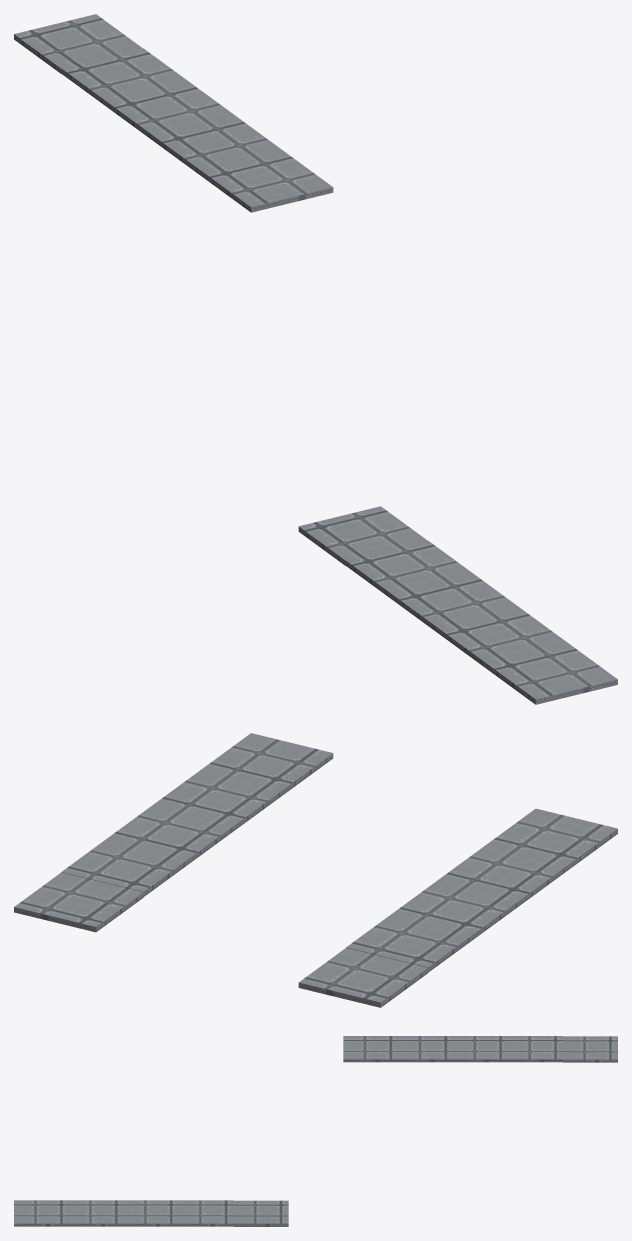
Rendered from Stage2_penetrate.fbx.
3 renders of one model, top to bottom at view 1: azimuth 30°, elevation 25°; view 2: azimuth 150°, elevation 25°; view 3: azimuth 270°, elevation 25°, orthographic. The views are drawn at different scales.
Parts seen in each view (by area): view 1: floor_def164, floor_def165; view 2: floor_def164, floor_def165; view 3: floor_def164, floor_def165.
Part boxes in pixels (bbox=[...]): floor_def164: bbox=[298, 506, 617, 704]; floor_def165: bbox=[14, 14, 333, 212]; floor_def164: bbox=[298, 808, 617, 1007]; floor_def165: bbox=[14, 733, 333, 932]; floor_def164: bbox=[14, 1200, 288, 1226]; floor_def165: bbox=[343, 1036, 617, 1062].
Bounding box in the file's own units: 200 × 674 × 2200.
Materials: 1 (1 with a texture image).
